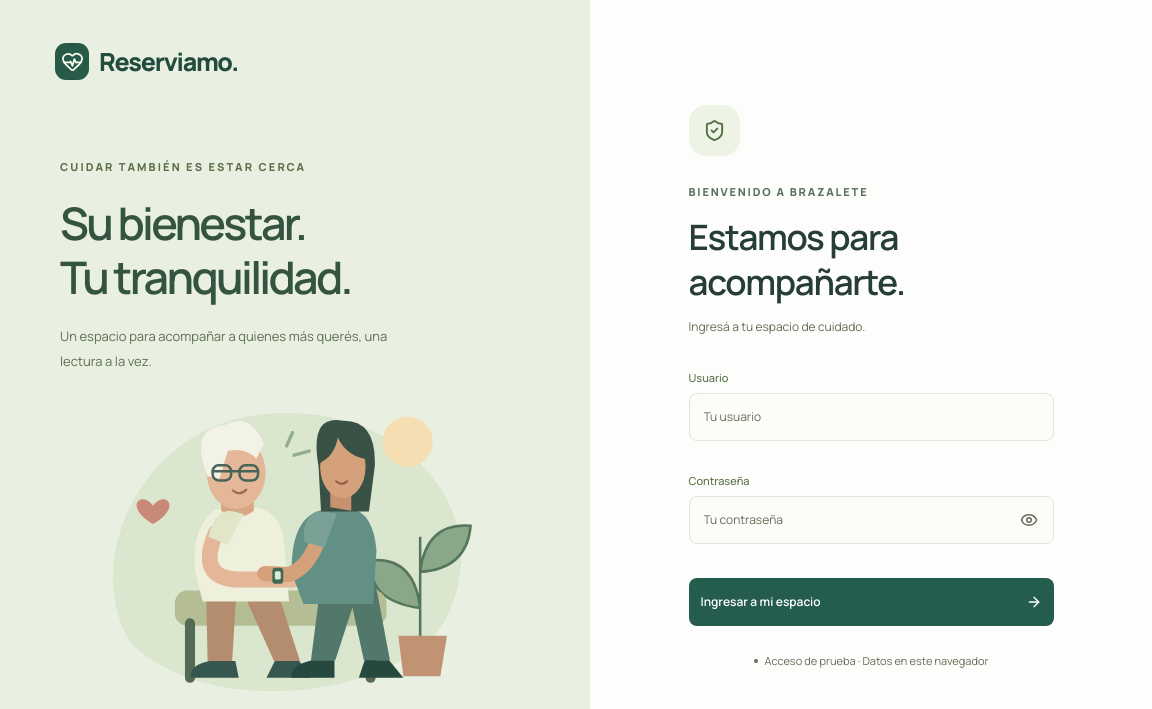
Acceso y rutas › valida campos y muestra errores accesibles
The image size is (1152, 709).
Click the button "Ingresar a mi espacio". click: [761, 601]
box: [688,578,1054,626]
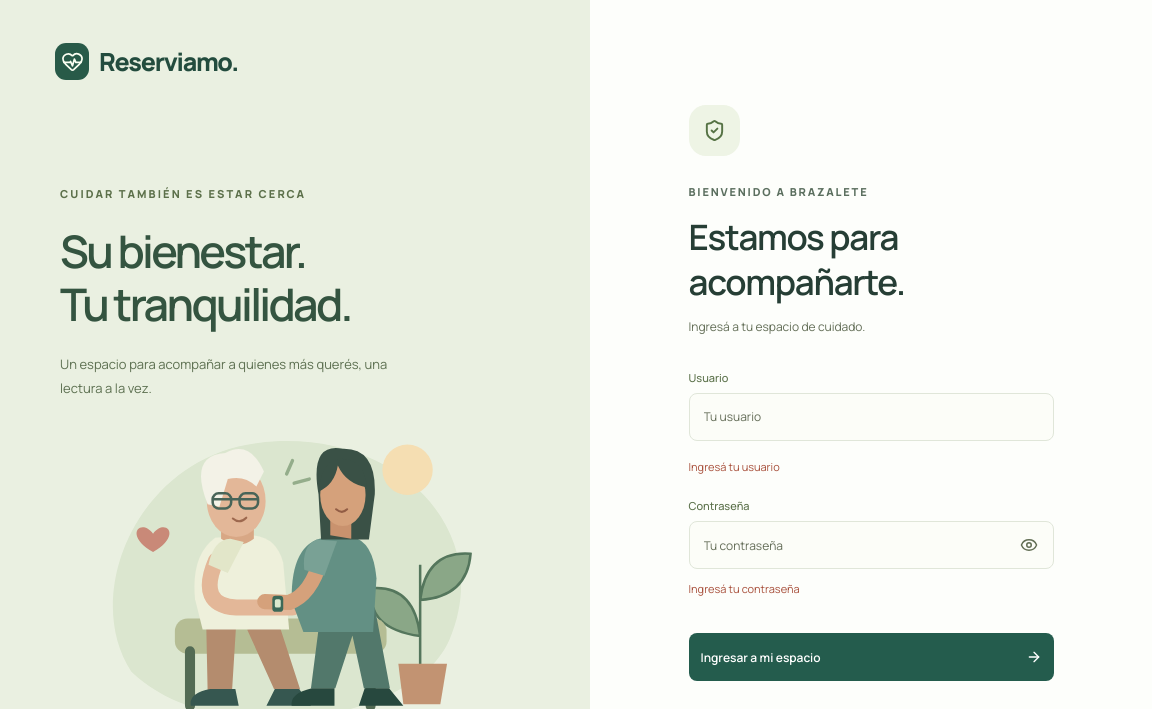
Check: the text "Ingresá tu usuario" is shown, box [688,458,780,474]
